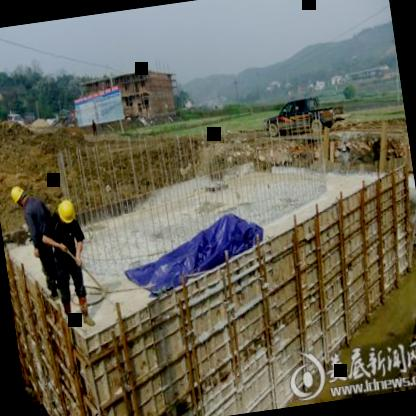helmet: (52, 196, 80, 232), (7, 180, 31, 212)
